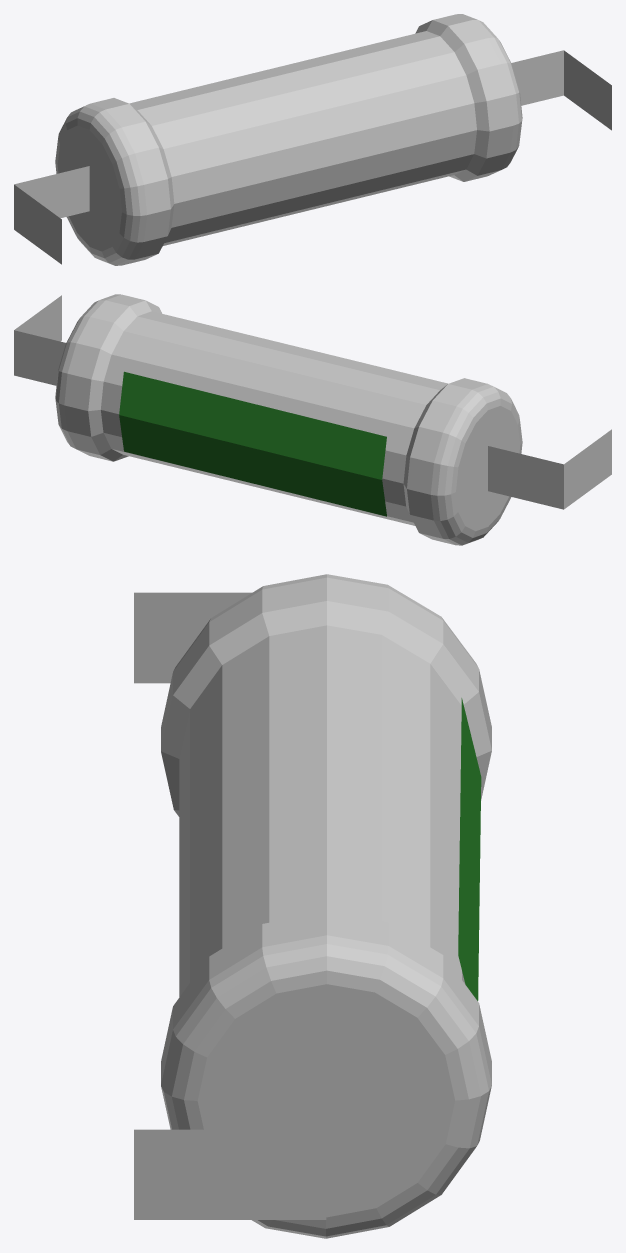
3 views of the same model, one above another, from view 1: azimuth 30°, elevation 25°; view 2: azimuth 150°, elevation 25°; view 3: azimuth 270°, elevation 25° (orthographic). The views are drawn at different scales.
Visible parts, largest first — view 1: ShapeIndexedFaceSet.001_ShapeIndexedFaceSet.002, ShapeIndexedFaceSet.003_ShapeIndexedFaceSet, ShapeIndexedFaceSet.002_ShapeIndexedFaceSet.003; view 2: ShapeIndexedFaceSet.001_ShapeIndexedFaceSet.002, ShapeIndexedFaceSet_ShapeIndexedFaceSet.001, ShapeIndexedFaceSet.003_ShapeIndexedFaceSet, ShapeIndexedFaceSet.002_ShapeIndexedFaceSet.003; view 3: ShapeIndexedFaceSet.001_ShapeIndexedFaceSet.002, ShapeIndexedFaceSet.002_ShapeIndexedFaceSet.003, ShapeIndexedFaceSet.003_ShapeIndexedFaceSet, ShapeIndexedFaceSet_ShapeIndexedFaceSet.001.
Part boxes in pixels (x1,y1,x2,y2): ShapeIndexedFaceSet.001_ShapeIndexedFaceSet.002: (55,14,522,265); ShapeIndexedFaceSet.003_ShapeIndexedFaceSet: (14,166,89,264); ShapeIndexedFaceSet.002_ShapeIndexedFaceSet.003: (511,50,611,130); ShapeIndexedFaceSet.001_ShapeIndexedFaceSet.002: (55,294,522,545); ShapeIndexedFaceSet_ShapeIndexedFaceSet.001: (119,371,386,516); ShapeIndexedFaceSet.003_ShapeIndexedFaceSet: (488,429,611,509); ShapeIndexedFaceSet.002_ShapeIndexedFaceSet.003: (14,295,65,385); ShapeIndexedFaceSet.001_ShapeIndexedFaceSet.002: (161,574,491,1238); ShapeIndexedFaceSet.002_ShapeIndexedFaceSet.003: (134,1129,326,1219); ShapeIndexedFaceSet.003_ShapeIndexedFaceSet: (134,592,251,683); ShapeIndexedFaceSet_ShapeIndexedFaceSet.001: (458,698,481,1000).
Size of the model in its own units: 5.08 by 1.32 by 1.43.
